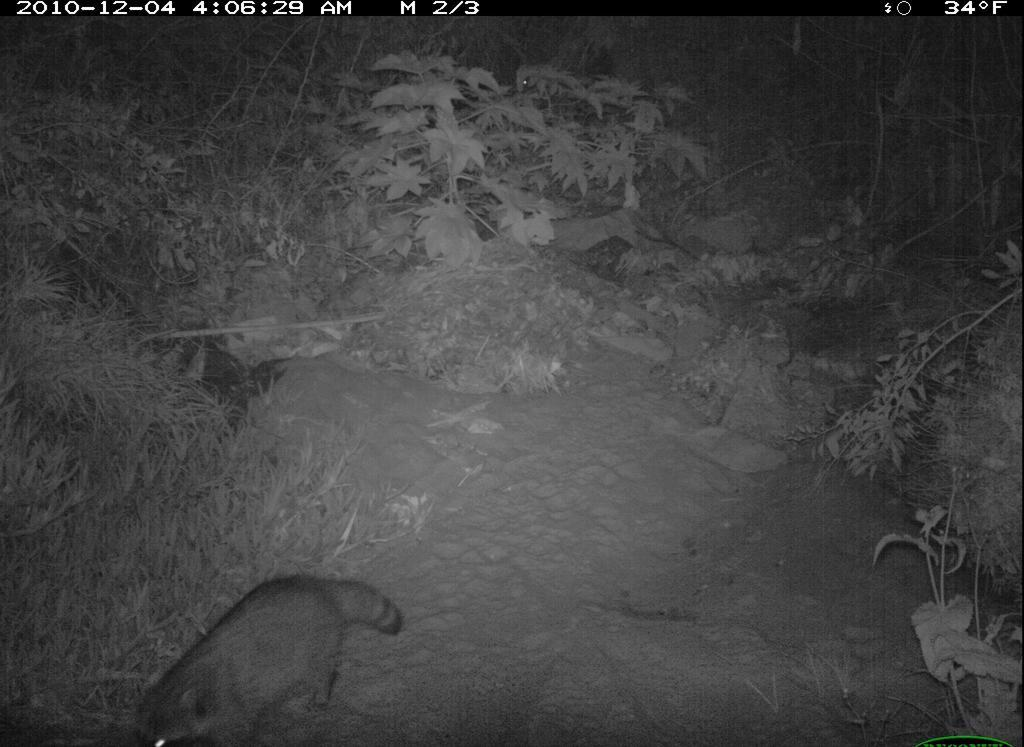raccoon: (121, 564, 413, 747)
